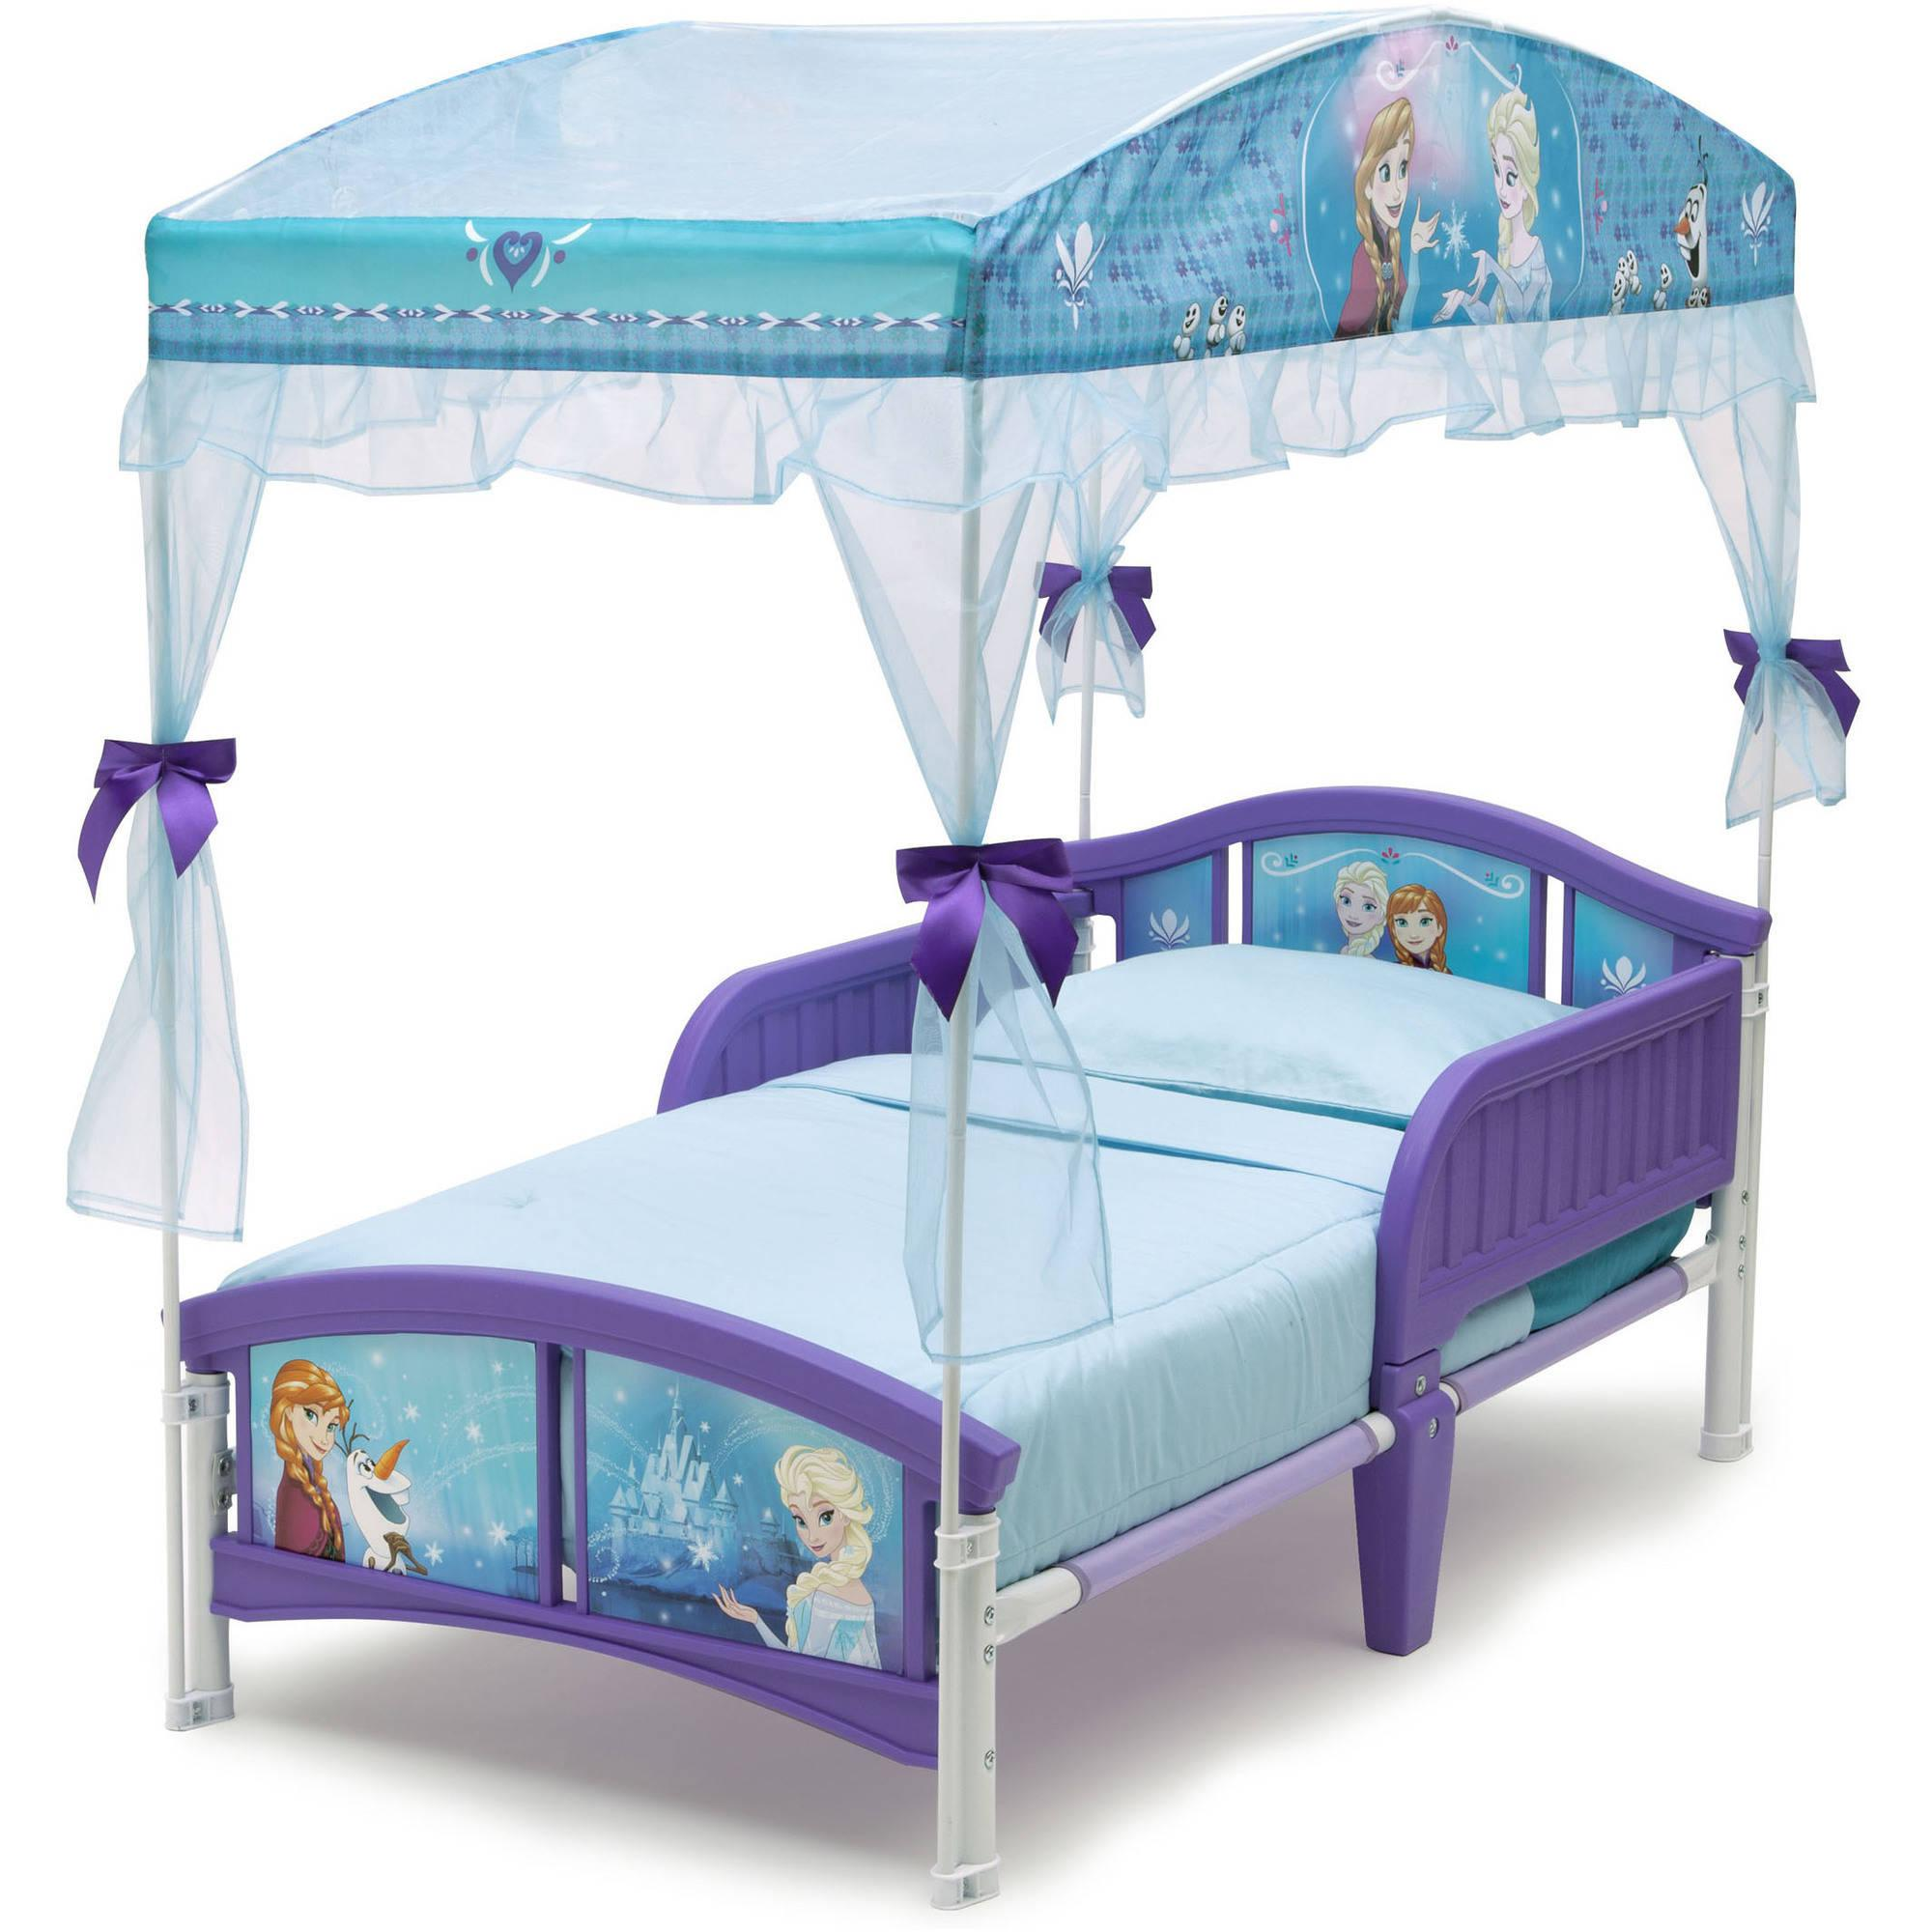bed: (138, 53, 1881, 1884)
